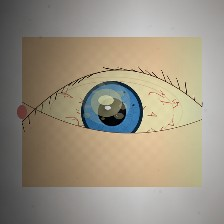corneal_ulcer: (81, 83, 132, 123)
